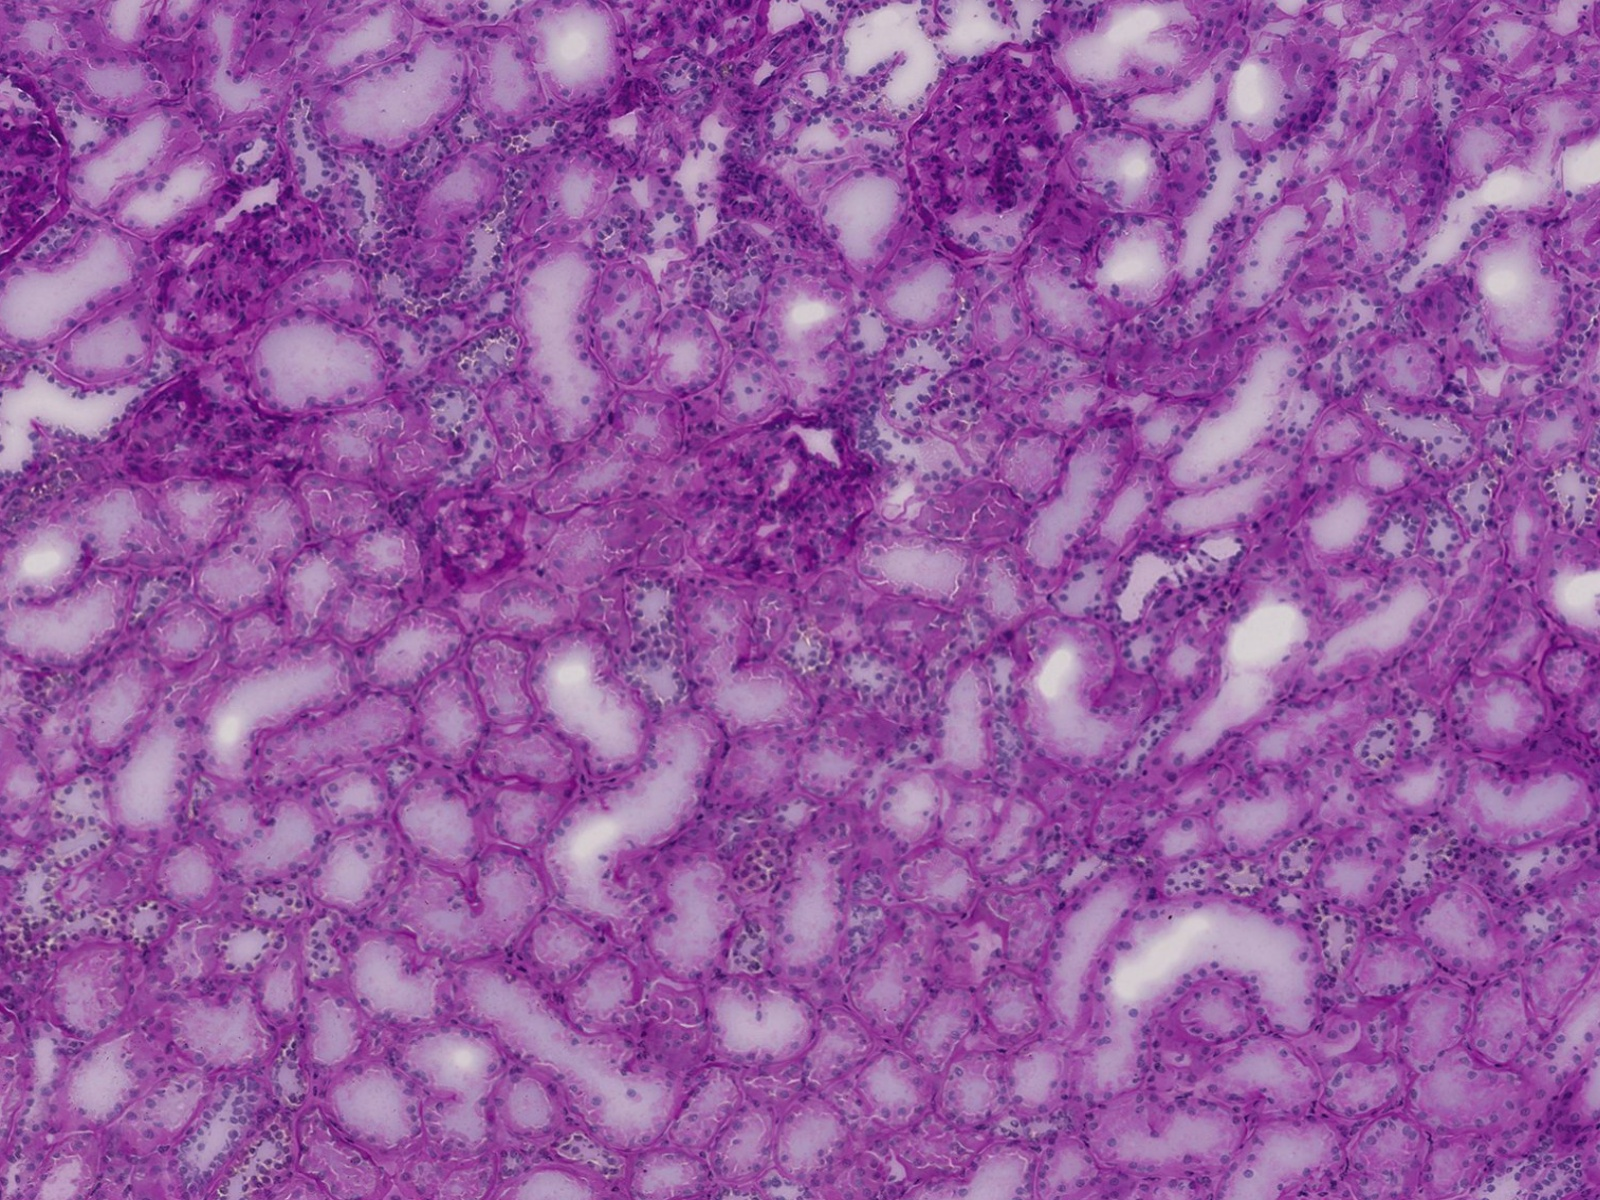Glomeruli: (905, 49, 1092, 250), (165, 161, 328, 345), (698, 408, 854, 574), (1, 64, 77, 270)
